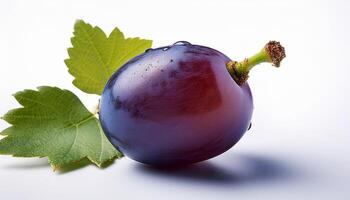grapes: (101, 34, 305, 174)
